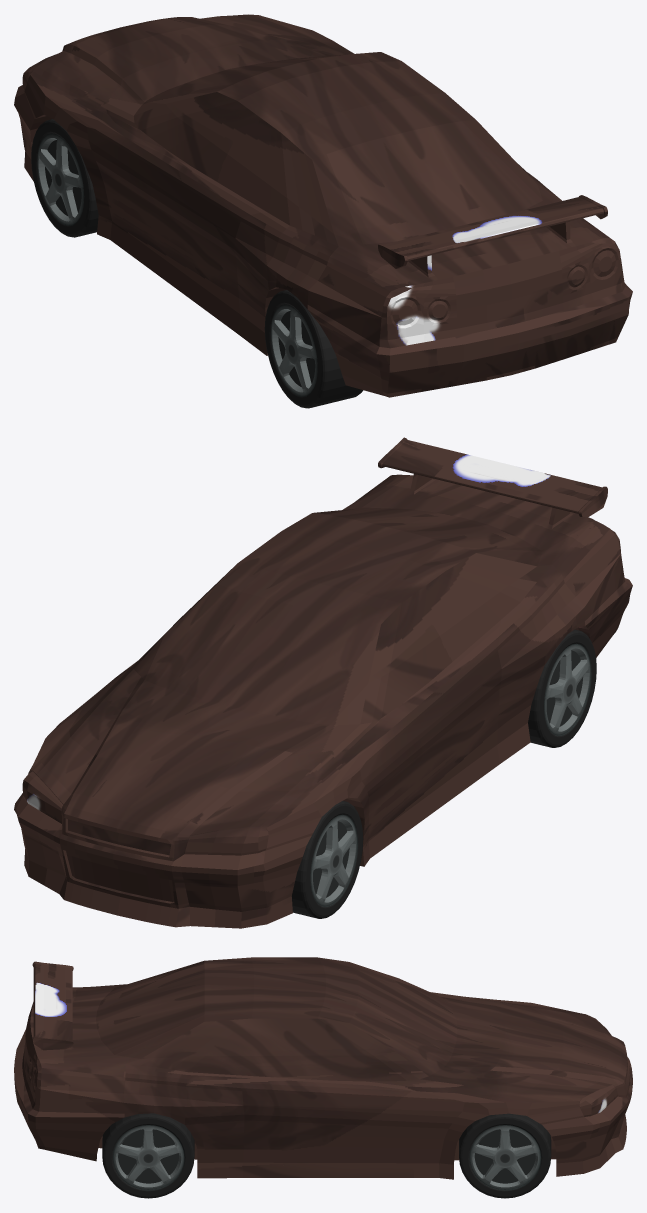
Rendered from Nismo-R34-GTR-BaysideBlue.fbx.
The picture shows the model from 3 angles, top to bottom: view 1: azimuth 30°, elevation 25°; view 2: azimuth 150°, elevation 25°; view 3: azimuth 270°, elevation 25°; orthographic projection. The views are drawn at different scales.
Visible parts, largest first — view 1: R34-GTR Body, BackRight Wheel.001, FrontRight Wheel.001; view 2: R34-GTR Body, FrontRight Wheel.001, BackRight Wheel.001; view 3: R34-GTR Body, BackRight Wheel, FrontRight Wheel.
Part boxes in pixels (bbox=[...]): R34-GTR Body: bbox=[14, 14, 632, 397]; BackRight Wheel.001: bbox=[264, 290, 363, 408]; FrontRight Wheel.001: bbox=[31, 119, 98, 237]; R34-GTR Body: bbox=[14, 437, 632, 928]; FrontRight Wheel.001: bbox=[291, 801, 363, 918]; BackRight Wheel.001: bbox=[528, 629, 596, 747]; R34-GTR Body: bbox=[14, 957, 632, 1179]; BackRight Wheel: bbox=[102, 1113, 194, 1198]; FrontRight Wheel: bbox=[459, 1113, 551, 1198].
Bounding box in the file's own units: 190 × 474 × 138.
